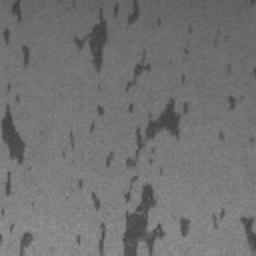Red iron sheet: (69, 49, 189, 256), (73, 0, 163, 74), (0, 82, 27, 198), (1, 0, 31, 68), (219, 209, 256, 251), (227, 63, 256, 114), (0, 232, 32, 256), (218, 129, 225, 141), (183, 46, 188, 56)
